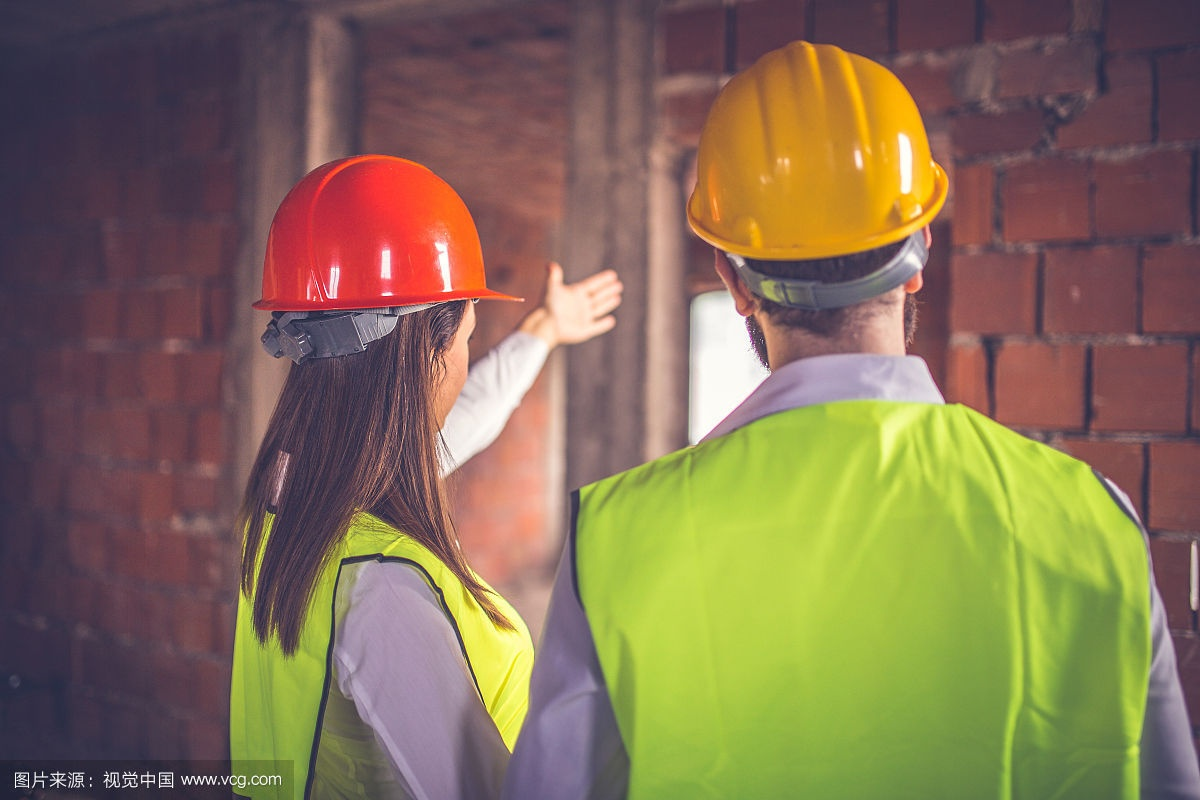red: (246, 146, 490, 445)
yellow: (681, 41, 964, 368)
